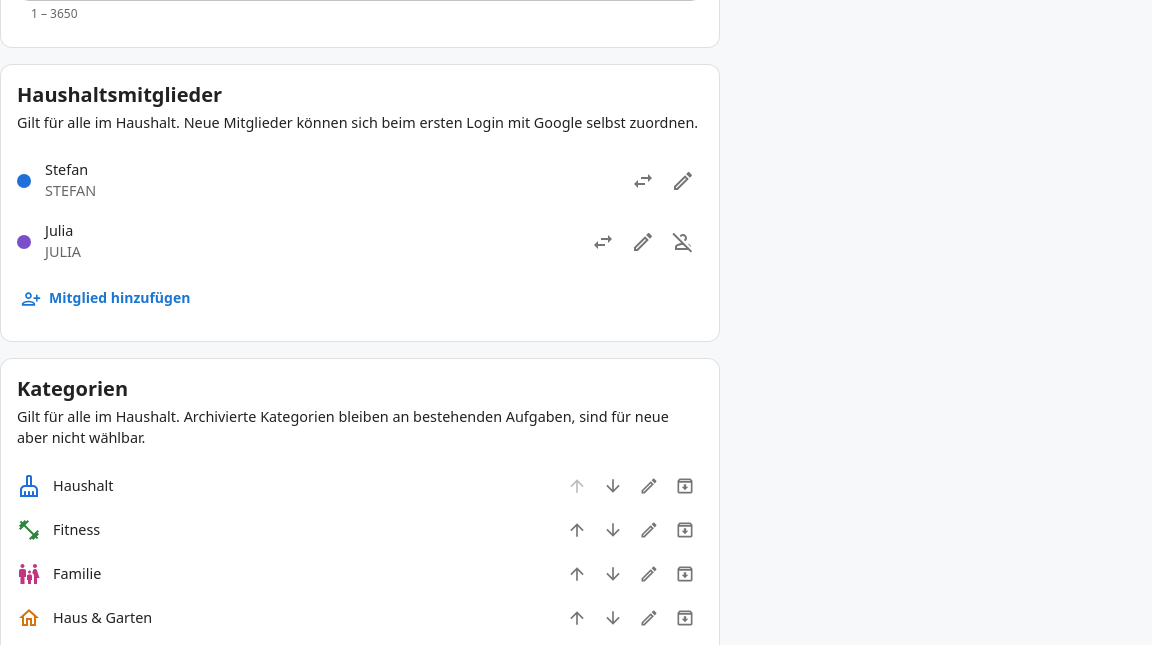
it: members settings › adds a member with name and color
The width and height of the screenshot is (1152, 645).
(page scrolled)
Click the button "Mitglied hinzufügen".
click(108, 299)  # box [17,280,198,317]
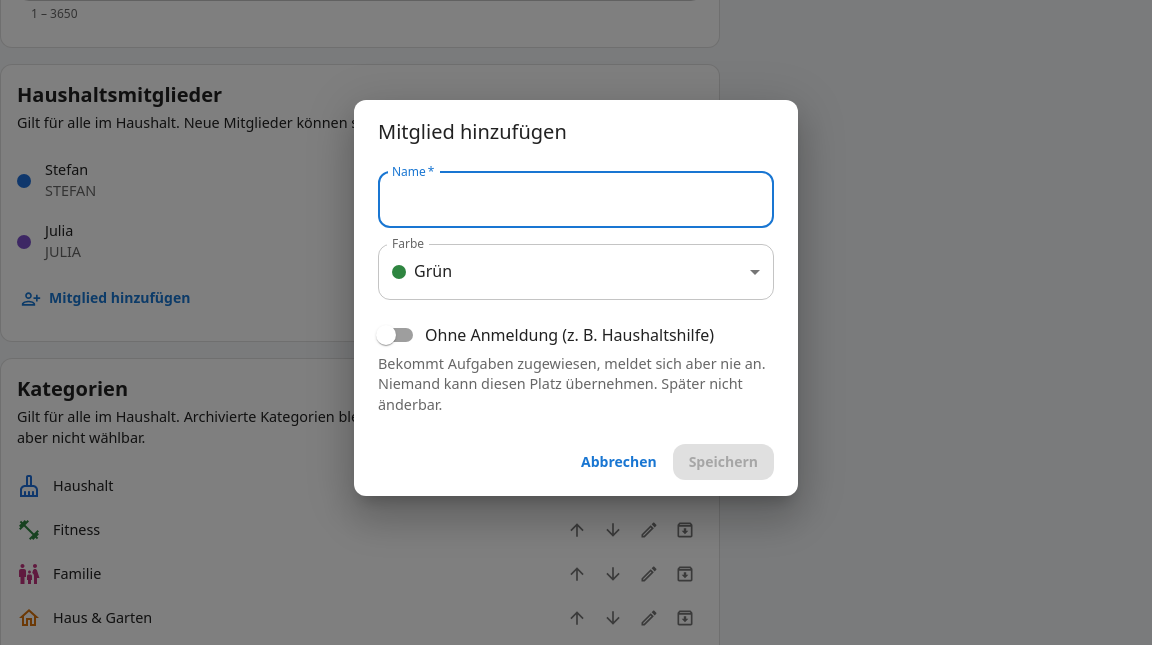
Type " Lena " into the field labelled "Name".
click(576, 200); type(" Lena ")  # box [378,172,774,228]
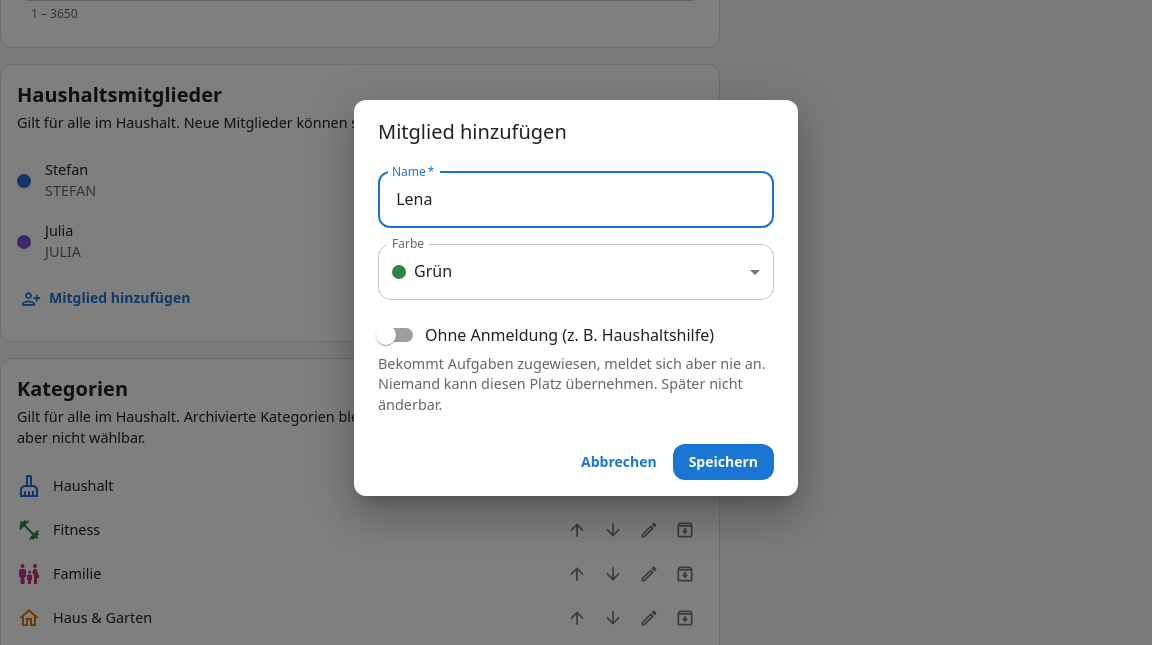
Click the dropdown named "Farbe".
click(422, 271)  # box [392,260,452,282]
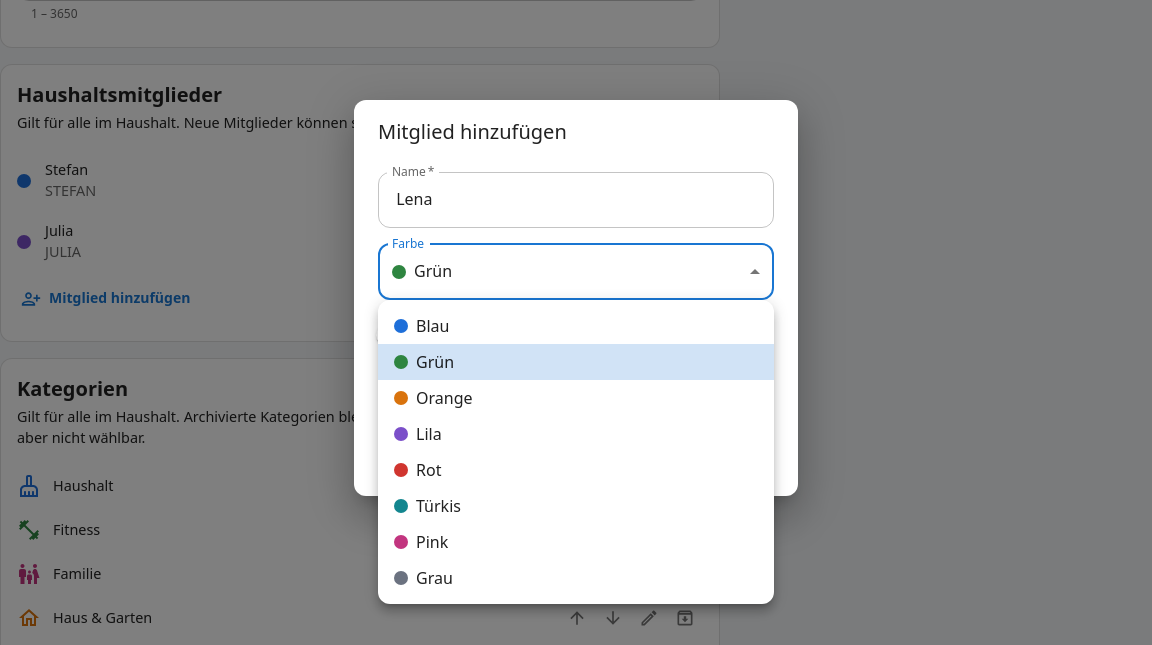
Click the option "Grün".
click(435, 362)  # box [378,344,774,380]
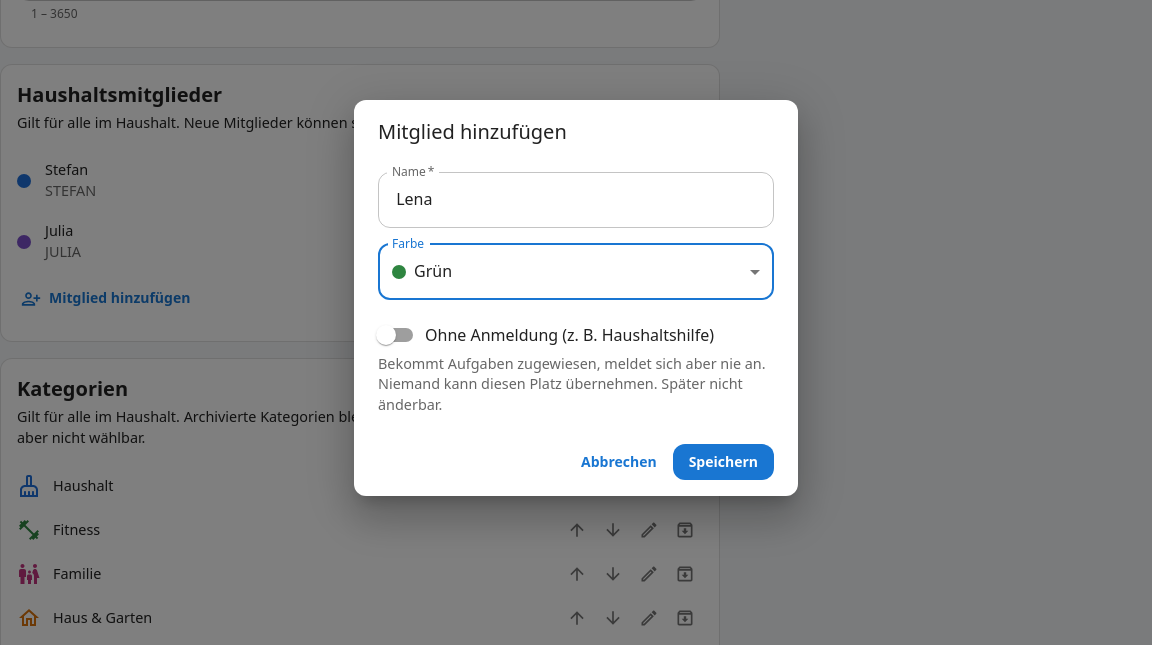
Click the button "Speichern".
click(723, 462)  # box [673,444,774,480]
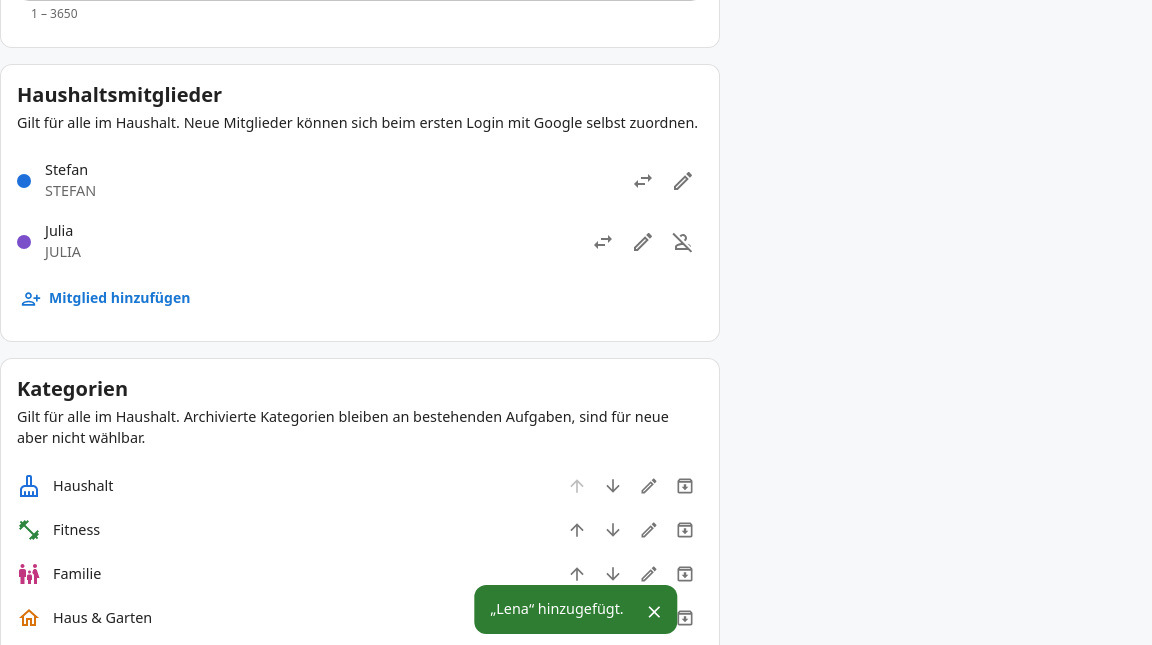
Now the text "„Lena“ hinzugefügt." is shown, box [490,599,624,618]
